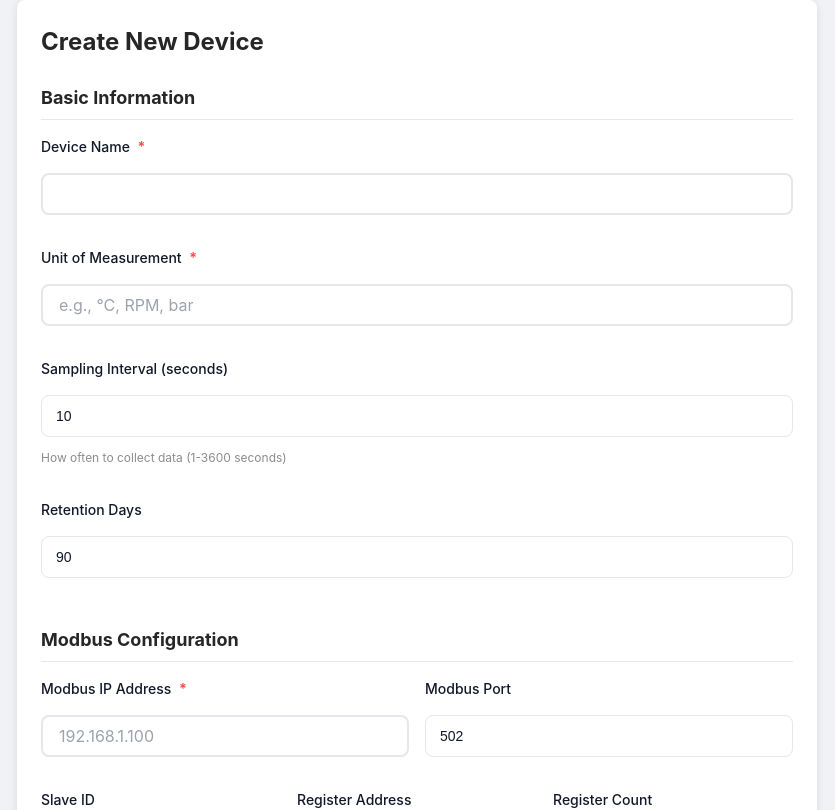
Test: DeviceForm Component › Validation › should validate required IP address field
Fill name and unit only
Type "Test Device" into the field labelled "Device Name *" at (417, 194), box x1=41 y1=173 x2=793 y2=215
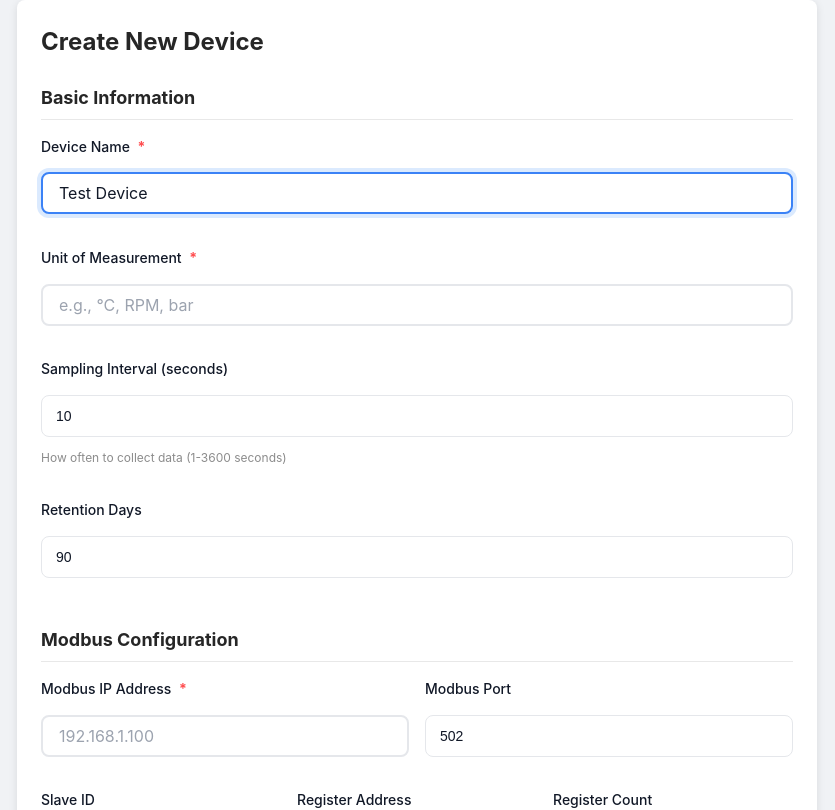
Type "bar" into the field labelled "Unit of Measurement *" at (417, 305), box x1=41 y1=284 x2=793 y2=326
(page scrolled)
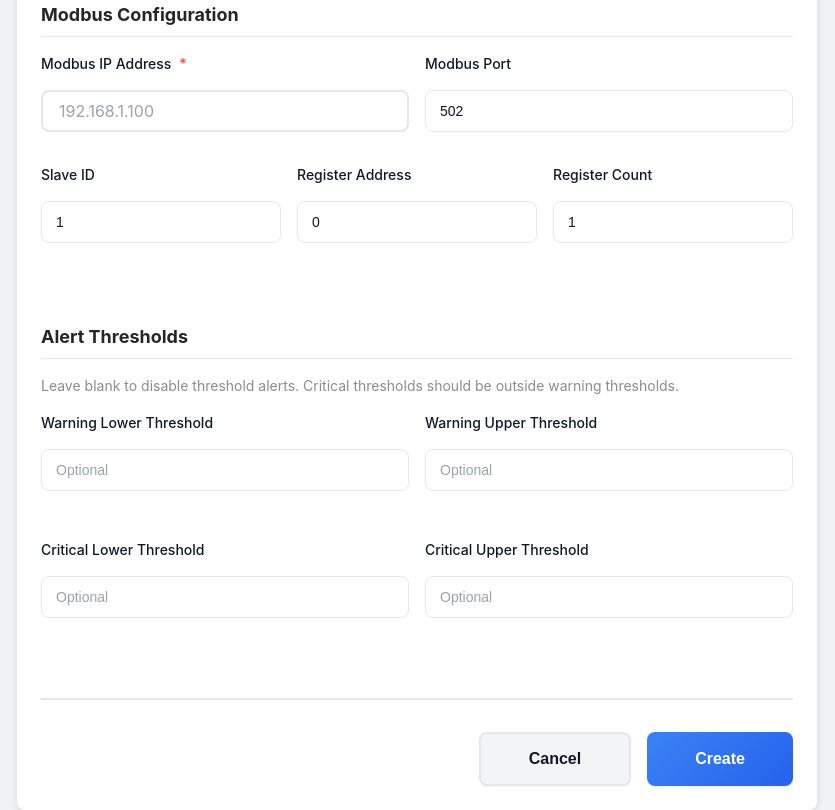
Click the button "Create" at (720, 759), box x1=647 y1=732 x2=793 y2=786
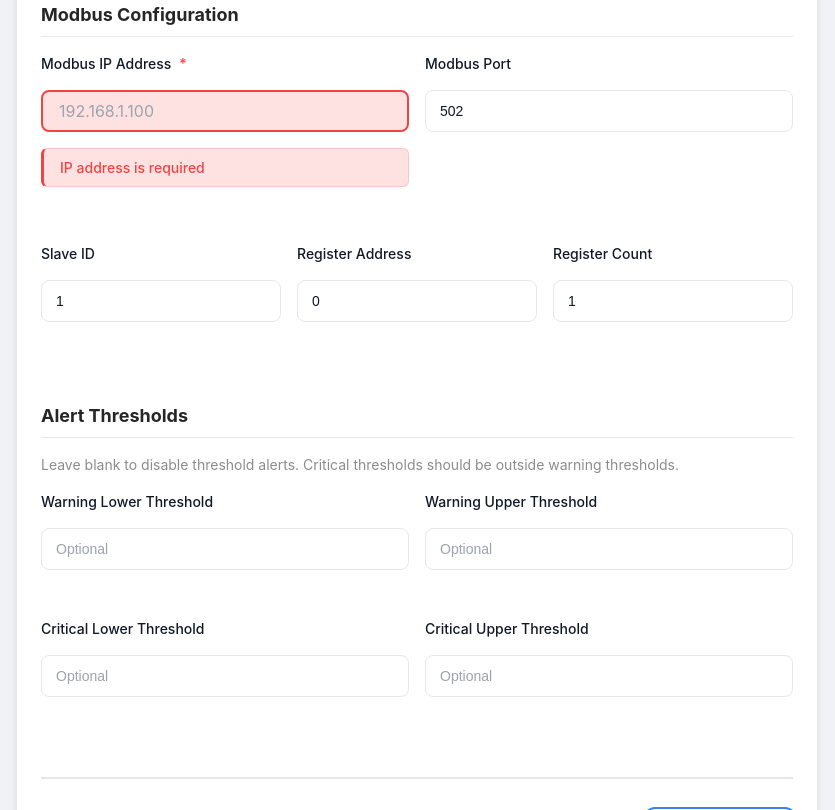
Expected: the text "IP address is required" is shown, x1=41 y1=148 x2=409 y2=187
